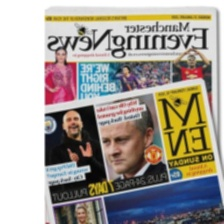news_paper: (39, 2, 219, 171), (26, 87, 223, 224)
